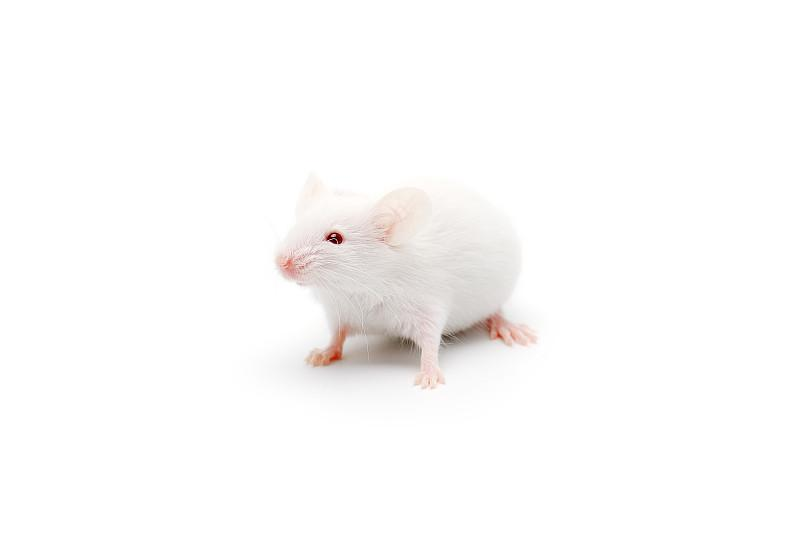rat: (272, 162, 537, 379)
